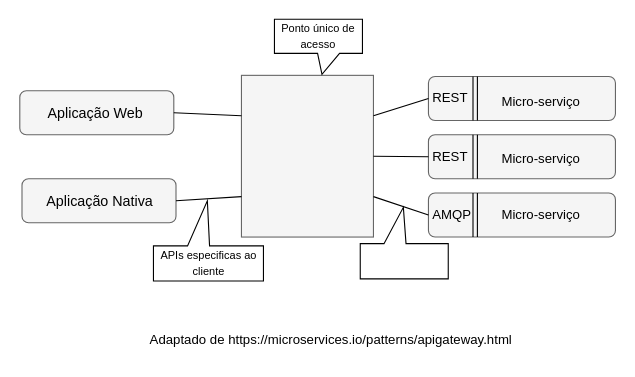
Image size: 635x377. Some labels were removed from this diagram. The centre of each missing label's shape, as x and y in pixels:
"API Gateway" belongs at [306,155].
"Tradução do protocolo" belongs at [403,242].
